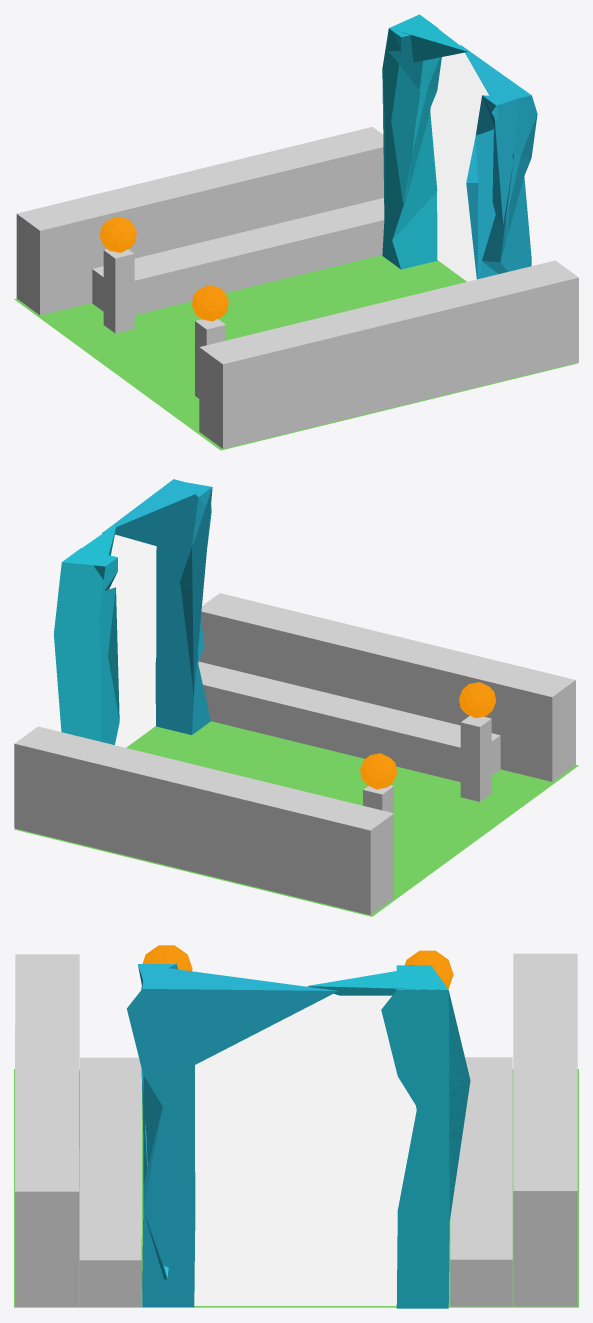
File: 传送门.glb
3 renders of one model, top to bottom at view 1: azimuth 30°, elevation 25°; view 2: azimuth 150°, elevation 25°; view 3: azimuth 270°, elevation 25°, orthographic. The views are drawn at different scales.
Parts seen in each view (by area): view 1: 立方體.005, 立方體.003, 平面, 立方體.002, 立方體.006, 立方體.007, 平面.001, 立方體.001, Ico 球體.001, Ico 球體, 立方體; view 2: 立方體.003, 立方體.005, 平面, 立方體.004, 立方體.007, 立方體.006, 平面.001, 立方體, Ico 球體, Ico 球體.001, 立方體.001; view 3: 平面.001, 立方體.007, 立方體.003, 立方體.005, 立方體.006, 立方體.004, 立方體.002, 平面, Ico 球體.001, Ico 球體.
Part boxes in pixels (x1,y1,x2,y2): 立方體.005: [199, 260, 578, 448]; 立方體.003: [16, 127, 383, 315]; 平面: [14, 255, 578, 450]; 立方體.002: [92, 198, 384, 314]; 立方體.006: [382, 14, 467, 269]; 立方體.007: [460, 44, 537, 279]; 平面.001: [430, 52, 489, 281]; 立方體.001: [103, 249, 134, 333]; Ico 球體.001: [99, 216, 136, 252]; Ico 球體: [192, 285, 228, 321]; 立方體: [195, 319, 225, 398]; 立方體.003: [14, 726, 393, 915]; 立方體.005: [199, 593, 575, 781]; 平面: [14, 721, 578, 916]; 立方體.004: [198, 661, 500, 781]; 立方體.007: [102, 479, 212, 734]; 立方體.006: [54, 524, 119, 744]; 平面.001: [109, 534, 156, 747]; 立方體: [460, 716, 491, 801]; Ico 球體: [459, 682, 495, 718]; Ico 球體.001: [360, 753, 396, 789]; 立方體.001: [363, 785, 393, 813]; 平面.001: [194, 995, 416, 1305]; 立方體.007: [127, 964, 337, 1307]; 立方體.003: [513, 953, 577, 1306]; 立方體.005: [15, 954, 79, 1307]; 立方體.006: [307, 965, 470, 1308]; 立方體.004: [79, 1057, 141, 1307]; 立方體.002: [450, 1057, 512, 1306]; 平面: [14, 1069, 578, 1307]; Ico 球體.001: [405, 950, 453, 989]; Ico 球體: [142, 945, 192, 971].
Size of the model in its own units: 10.15 by 6.26 by 10.
